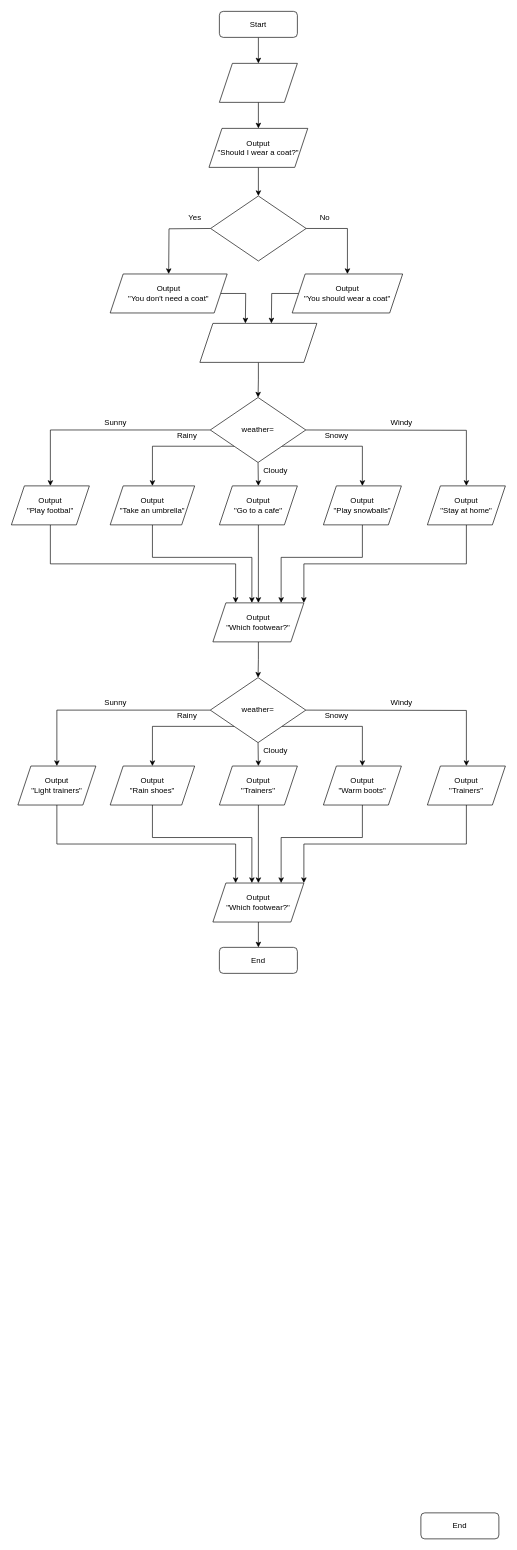
The diagram is 517 pixels wide and 1550 high, and some of its shapes have lost their labels. Here are the shapes that lost their labels. From the top down, the centre of each, then its label:
(258,82): Input weather
(258,228): weather=sunny
(258,342): Output "Which type of activity?"
